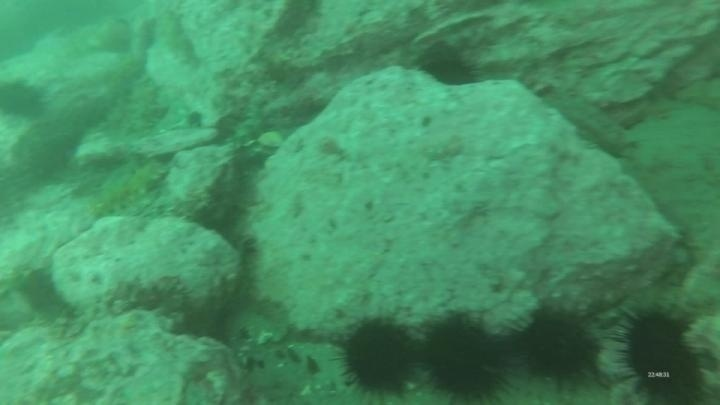echinus: (612, 303, 709, 404), (418, 312, 515, 403), (514, 304, 602, 388), (335, 315, 420, 400), (417, 45, 480, 89), (0, 76, 49, 123)
holothurian: (89, 158, 169, 223), (120, 73, 166, 138)
